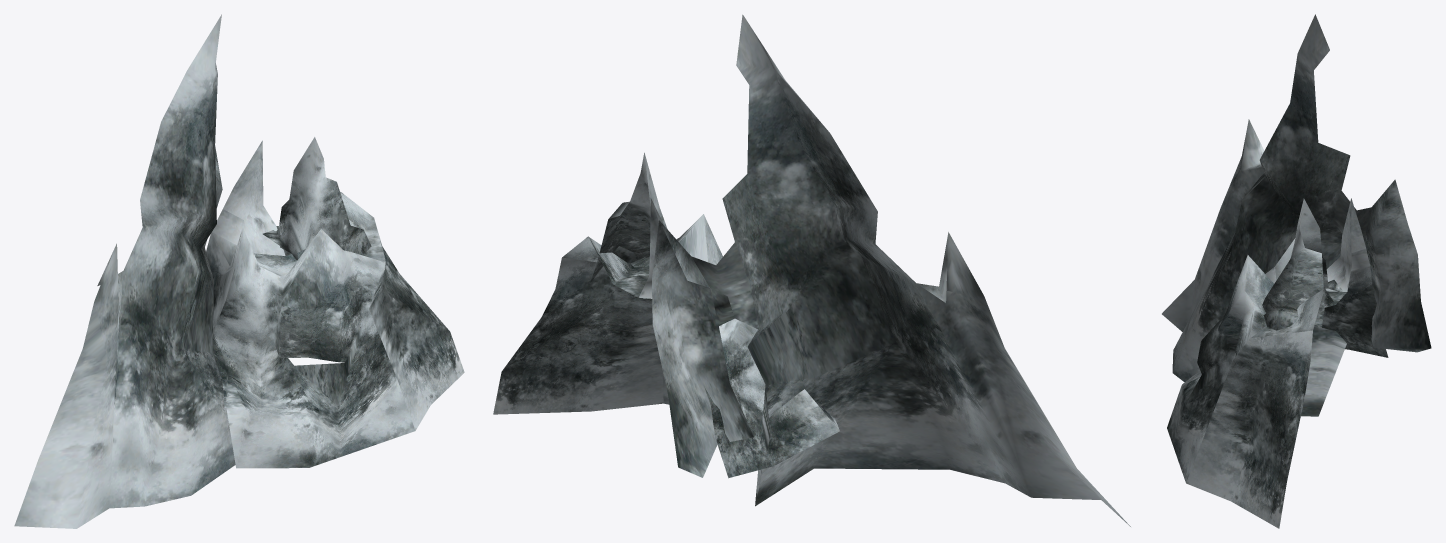
File: S_Rock_White001_4.FBX
The picture shows the model from 3 angles, left to right: view 1: azimuth 30°, elevation 25°; view 2: azimuth 150°, elevation 25°; view 3: azimuth 270°, elevation 25°; orthographic projection. The views are drawn at different scales.
Parts seen in each view (by area): view 1: S_Rock_White001_4; view 2: S_Rock_White001_4; view 3: S_Rock_White001_4.
Part boxes in pixels (x1,y1,x2,y2): S_Rock_White001_4: (14, 14, 464, 528); S_Rock_White001_4: (493, 14, 1130, 526); S_Rock_White001_4: (1162, 14, 1431, 528).
Size of the model in its own units: 1189 by 562 by 938.
